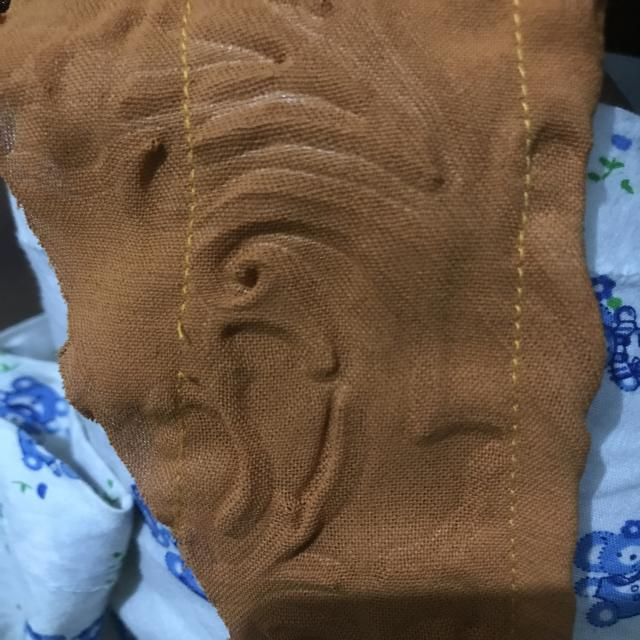broken: (156, 302, 220, 395)
good: (492, 288, 540, 398)
